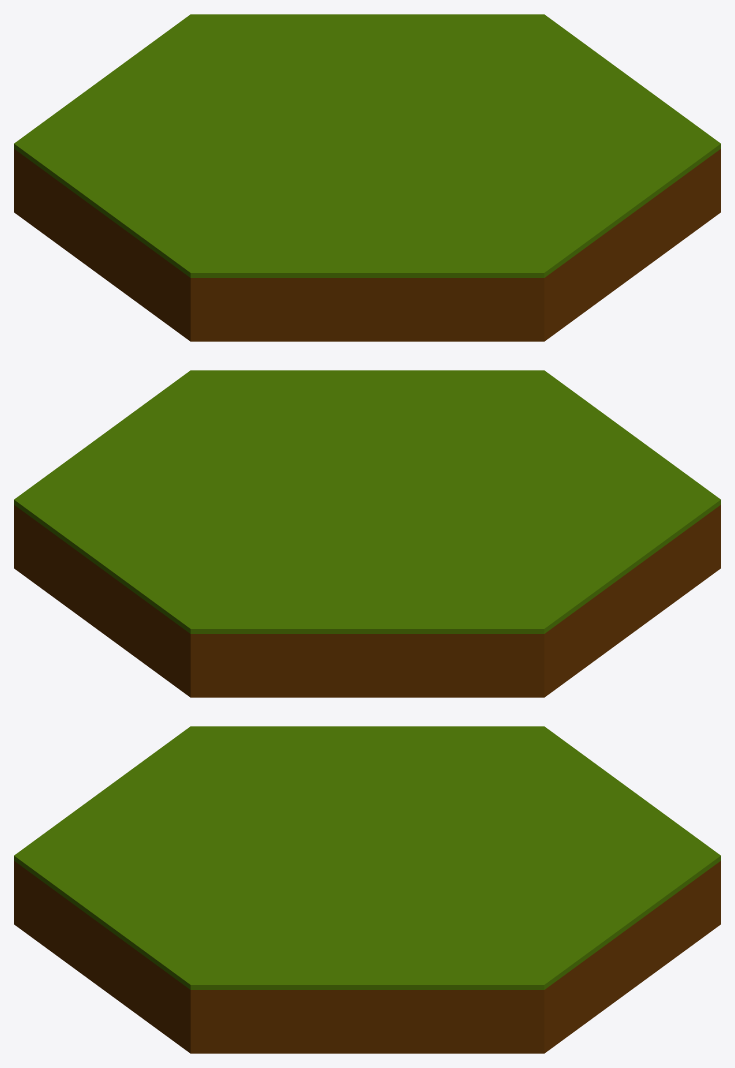
Rendered from grass2.fbx.
The picture shows the model from 3 angles, top to bottom: view 1: azimuth 30°, elevation 25°; view 2: azimuth 150°, elevation 25°; view 3: azimuth 270°, elevation 25°; orthographic projection.
Visible parts, largest first — view 1: pasted__pCylinder4; view 2: pasted__pCylinder4; view 3: pasted__pCylinder4.
Boxes of the visible parts, <box> form: pasted__pCylinder4: <box>14,14,720,341</box>; pasted__pCylinder4: <box>14,370,720,697</box>; pasted__pCylinder4: <box>14,726,720,1053</box>.
Bounding box in the file's own units: 1.73 × 0.2148 × 2.
